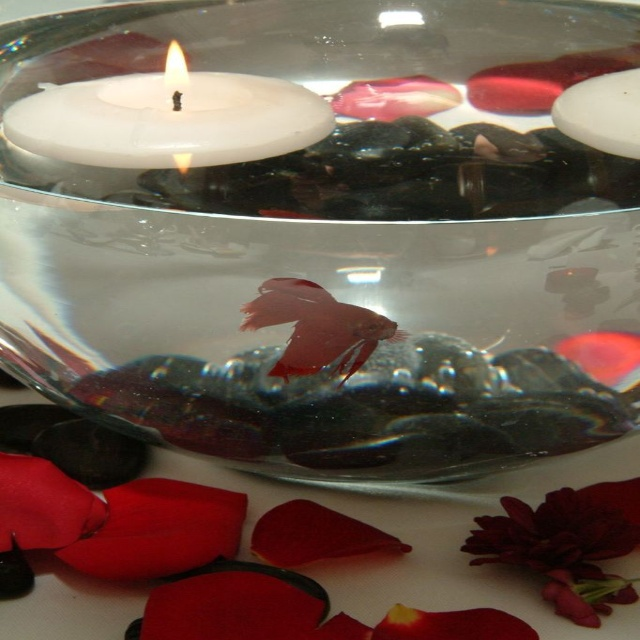Fish: (245, 276, 410, 384)
